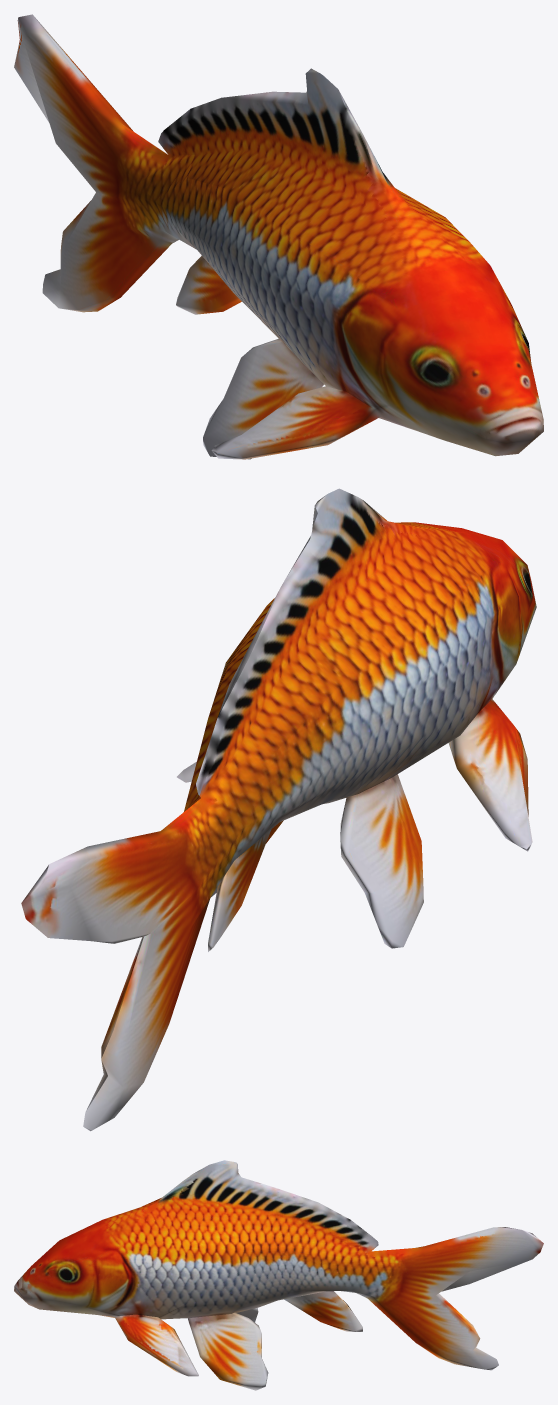
File: fish.glb
The picture shows the model from 3 angles, top to bottom: view 1: azimuth 30°, elevation 25°; view 2: azimuth 150°, elevation 25°; view 3: azimuth 270°, elevation 25°; orthographic projection. The views are drawn at different scales.
Visible parts, largest first — view 1: koifish_0; view 2: koifish_0; view 3: koifish_0.
Part boxes in pixels (left/top/right/bottom): koifish_0: left=14, top=14, right=543, bottom=459; koifish_0: left=21, top=488, right=536, bottom=1131; koifish_0: left=14, top=1160, right=543, bottom=1390.
Size of the model in its own units: 0.3668 by 0.4526 by 1.
Materials: 1 (1 with a texture image).
